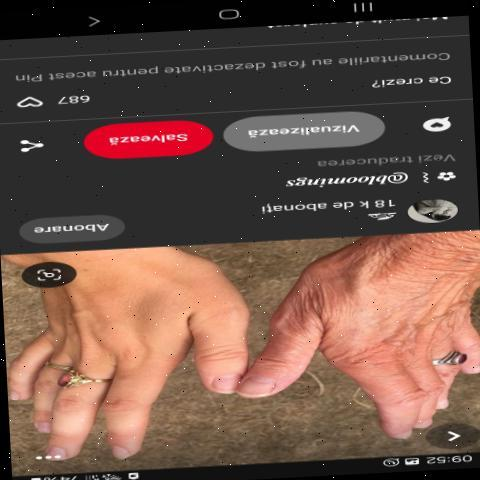Hands: (0, 252, 251, 464), (243, 254, 480, 440)
